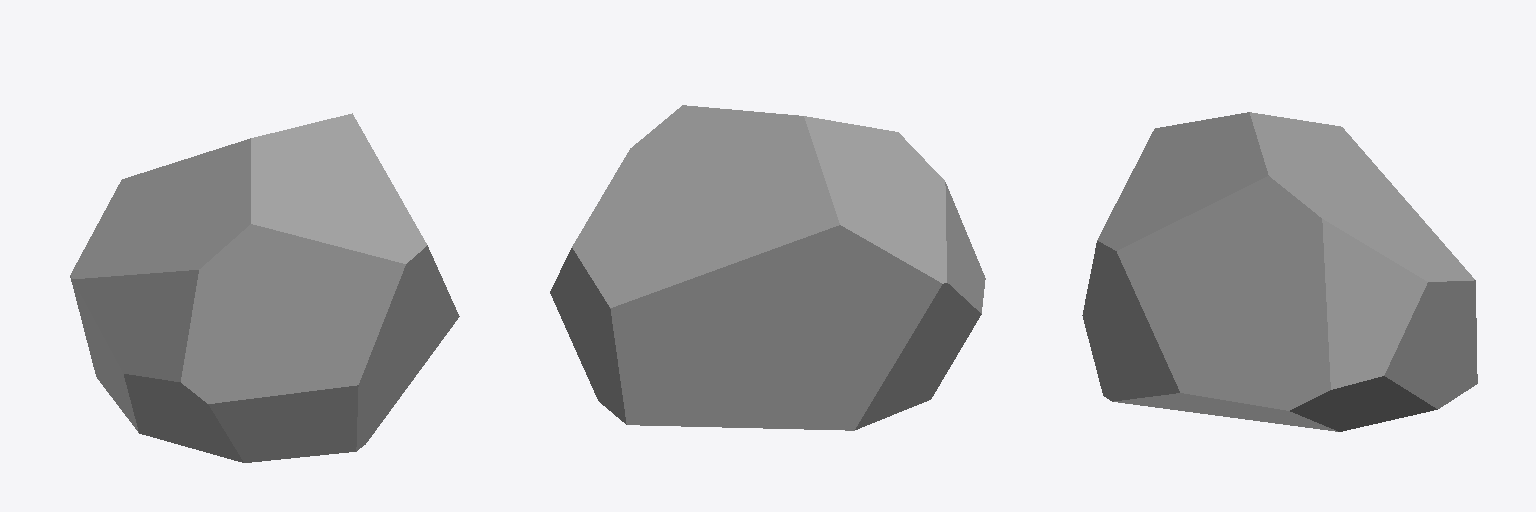
File: rock.obj
3 views of the same model, side by side, from view 1: azimuth 30°, elevation 25°; view 2: azimuth 150°, elevation 25°; view 3: azimuth 270°, elevation 25° (orthographic).
Visible parts, largest first — view 1: Rock_Type2_04_mesh_Rock_Type2_04_mesh; view 2: Rock_Type2_04_mesh_Rock_Type2_04_mesh; view 3: Rock_Type2_04_mesh_Rock_Type2_04_mesh.
Part boxes in pixels (x1,y1,x2,y2): Rock_Type2_04_mesh_Rock_Type2_04_mesh: (70, 113, 459, 462); Rock_Type2_04_mesh_Rock_Type2_04_mesh: (550, 105, 985, 430); Rock_Type2_04_mesh_Rock_Type2_04_mesh: (1082, 112, 1477, 431).
Bounding box in the file's own units: 0.8101 × 0.5717 × 0.7651.